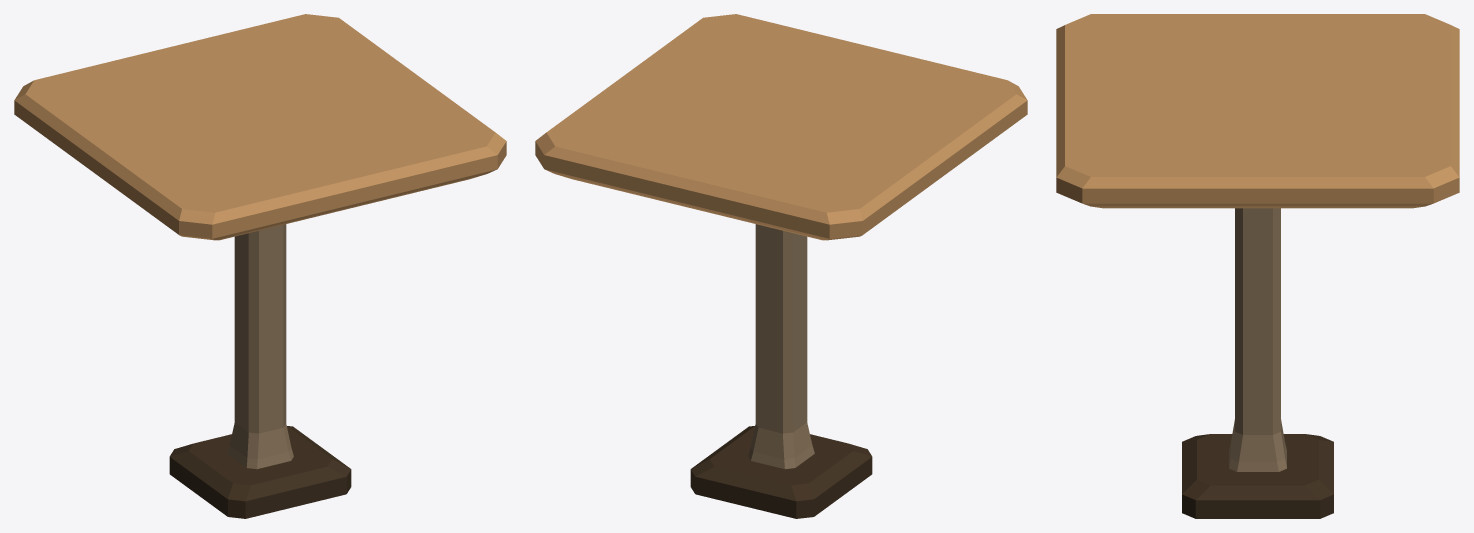
The model's file is bistro-table-877a6d.glb.
The picture shows the model from 3 angles, left to right: view 1: azimuth 30°, elevation 25°; view 2: azimuth 150°, elevation 25°; view 3: azimuth 270°, elevation 25°; orthographic projection. The views are drawn at different scales.
Parts seen in each view (by area): view 1: table; view 2: table; view 3: table.
Part boxes in pixels (x1=…): table: x1=14, y1=14, x2=506, y2=518; table: x1=535, y1=14, x2=1027, y2=518; table: x1=1056, y1=14, x2=1459, y2=518.
Size of the model in its own units: 0.7 by 0.75 by 0.7.
